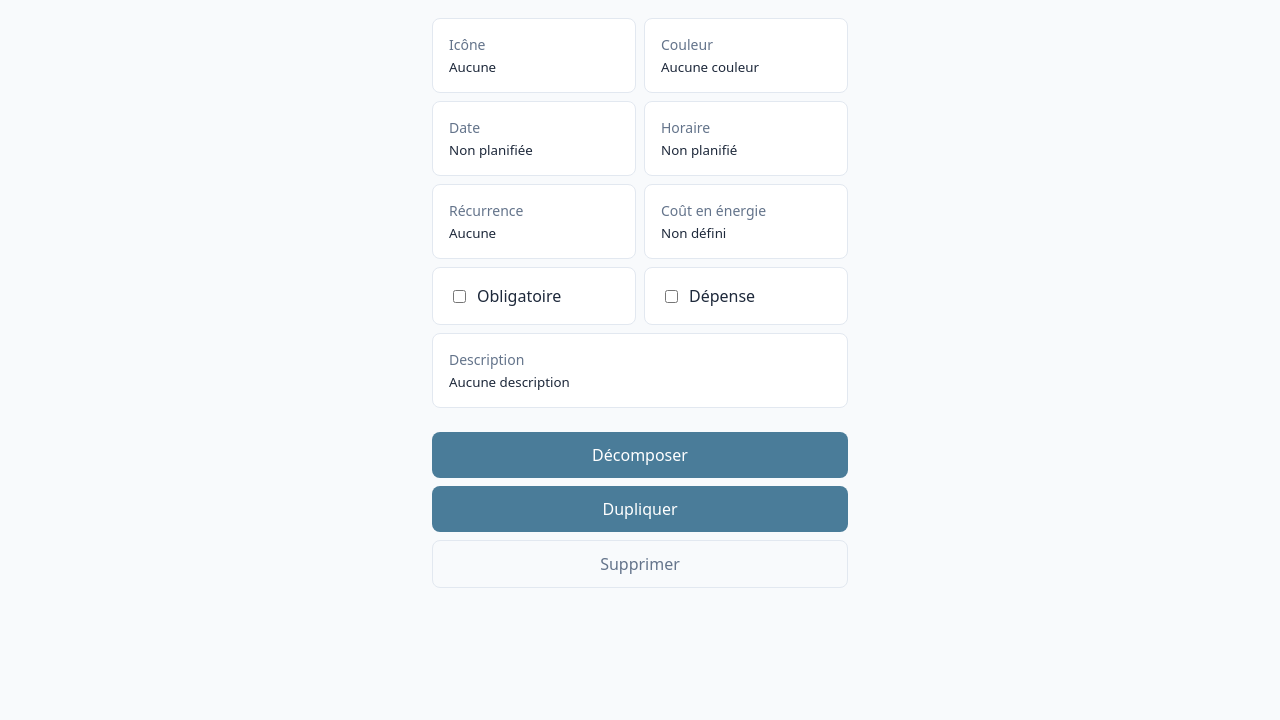
Test: E22TaskDetail › modale M01 (suppression) › Annuler dans la modale ferme sans supprimer
(page scrolled)
Click the button "Supprimer".
click(640, 564)  # box x1=432 y1=540 x2=848 y2=588
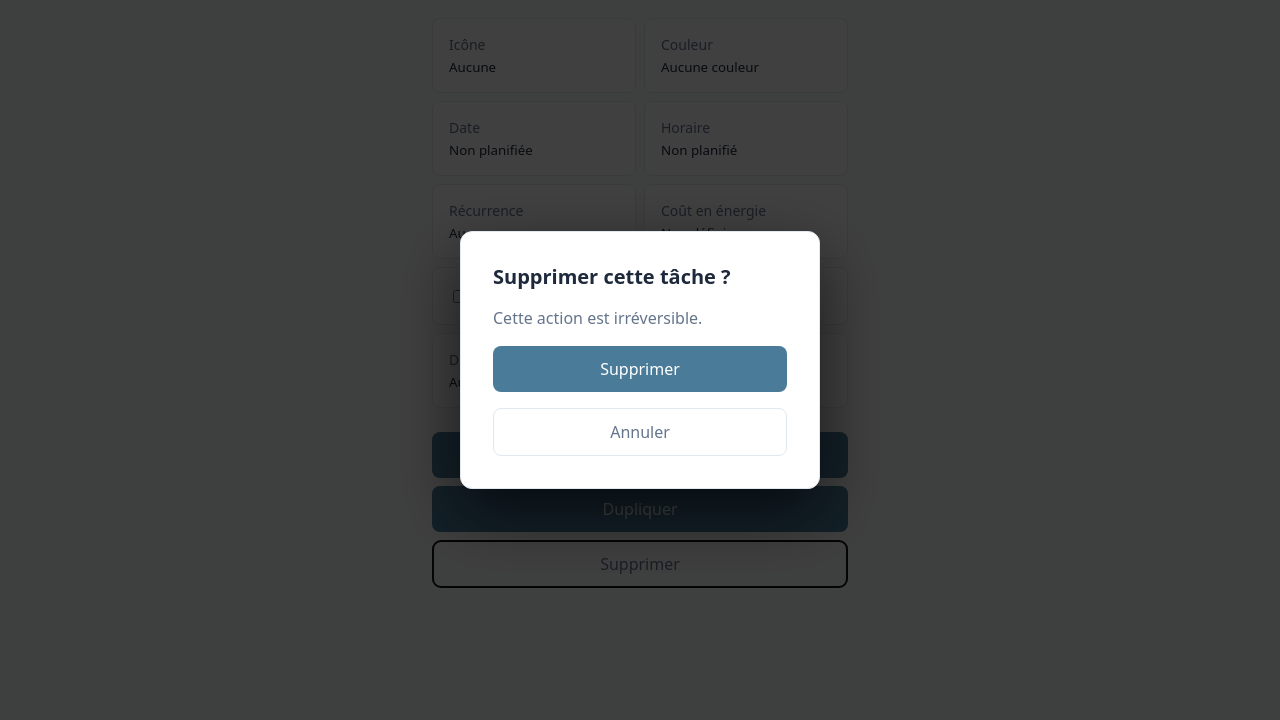
Click the button "Annuler".
click(640, 432)  # box x1=493 y1=408 x2=787 y2=456
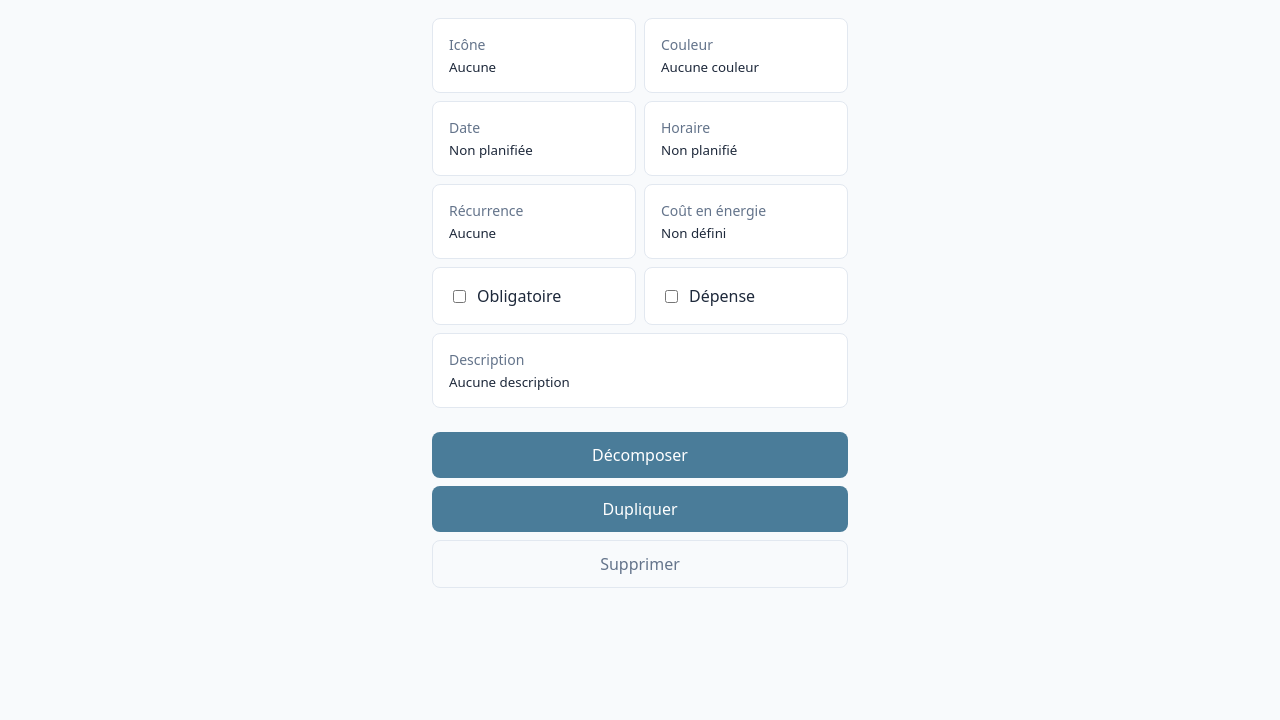
Expected: the dialog is gone
